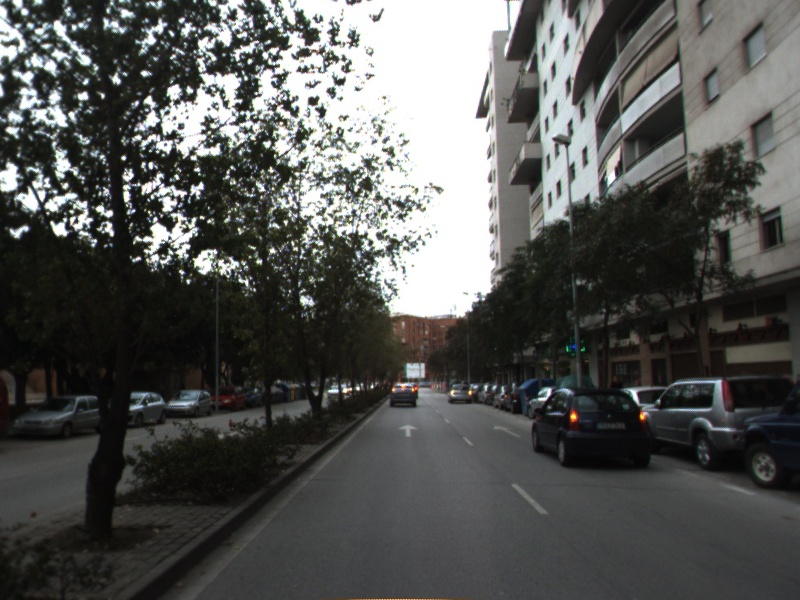STRAIGHT: (490, 423, 524, 439), (396, 422, 421, 439)
